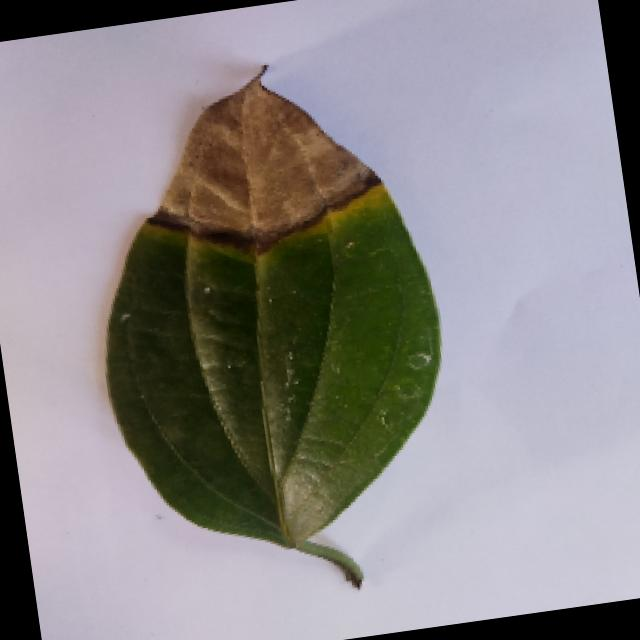footrot: (63, 44, 473, 611)
